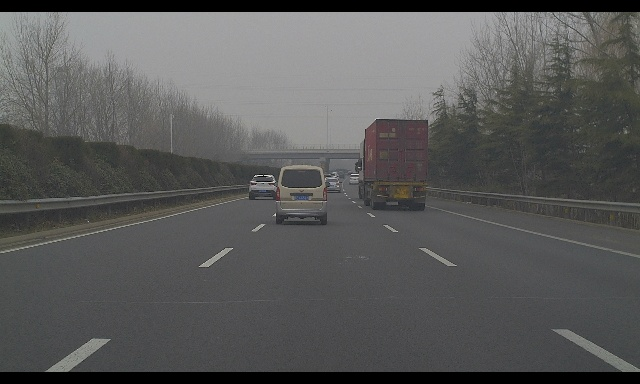car: (274, 165, 331, 225), (249, 175, 278, 200), (324, 178, 342, 193), (349, 174, 360, 185), (328, 174, 338, 183), (337, 172, 345, 179)
truck: (358, 119, 428, 210), (355, 139, 400, 199)
